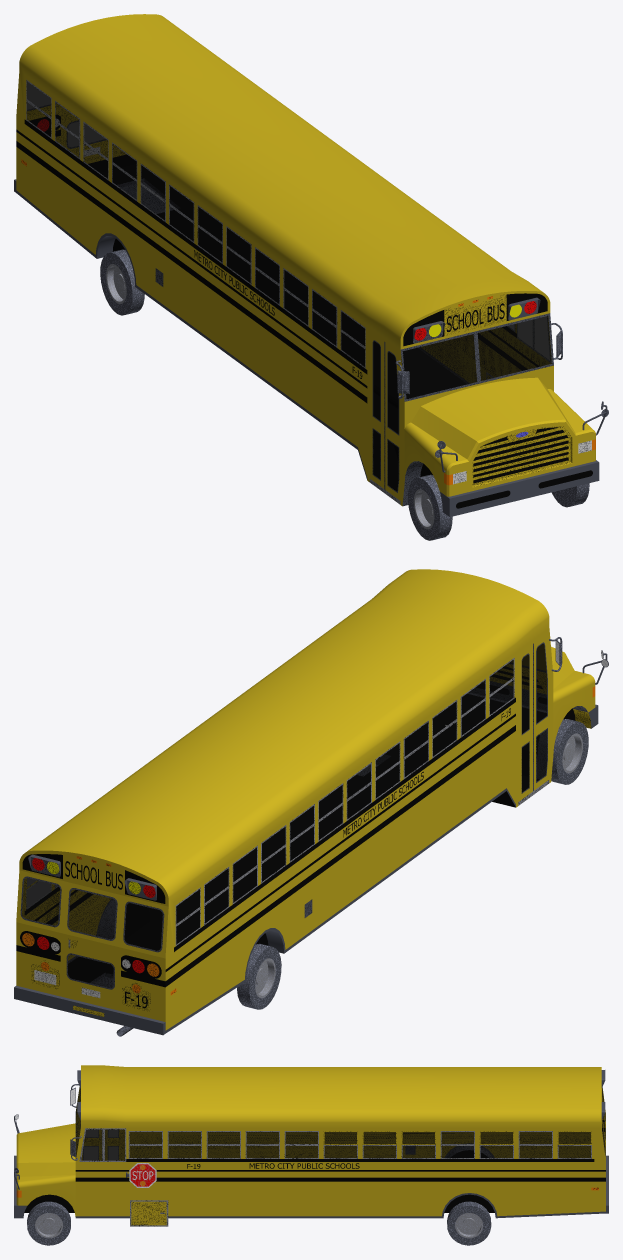
3 renders of one model, top to bottom at view 1: azimuth 30°, elevation 25°; view 2: azimuth 150°, elevation 25°; view 3: azimuth 270°, elevation 25°, orthographic. The views are drawn at different scales.
Parts seen in each view (by area): view 1: group_0 (×17), group_1, group_3; view 2: group_0 (×15), group_3, group_1; view 3: group_0 (×37), group_4 (×2), group_2 (×2), group_18.
Boxes of the visible parts, <box> form: group_0 (×17): <box>14,14,599,516</box>; group_1: <box>408,474,452,540</box>; group_3: <box>100,249,144,315</box>; group_0 (×15): <box>14,569,598,1035</box>; group_3: <box>237,943,281,1009</box>; group_1: <box>551,719,588,784</box>; group_0 (×37): <box>14,1065,608,1226</box>; group_4 (×2): <box>447,1201,491,1245</box>; group_2 (×2): <box>27,1201,70,1245</box>; group_18: <box>130,1164,155,1186</box>.
Bounding box in the file's own units: 112 × 485 × 127.
